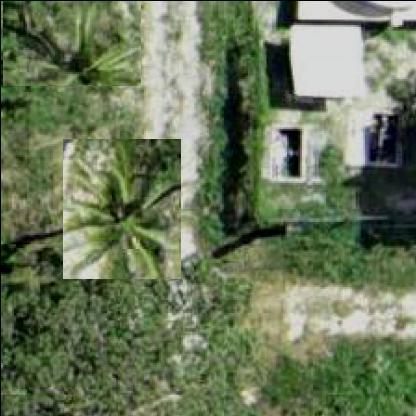coconut tree: (61, 138, 180, 279), (0, 1, 140, 86)
